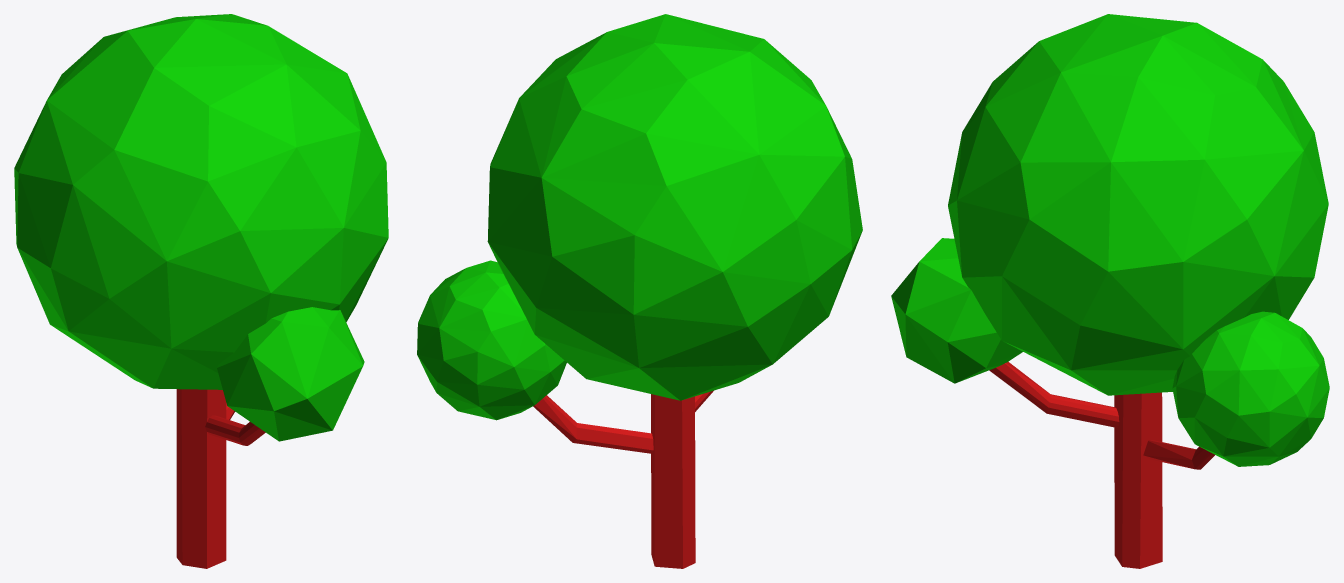
Rendered from ak_pompomtree.fbx.
3 renders of one model, left to right at view 1: azimuth 30°, elevation 25°; view 2: azimuth 150°, elevation 25°; view 3: azimuth 270°, elevation 25°, orthographic.
Parts seen in each view (by area): view 1: PomPomTree; view 2: PomPomTree; view 3: PomPomTree.
Part boxes in pixels (x1=…): PomPomTree: x1=14, y1=14, x2=388, y2=568; PomPomTree: x1=417, y1=14, x2=862, y2=568; PomPomTree: x1=891, y1=14, x2=1329, y2=568.
Size of the model in its own units: 122 by 172 by 130.
